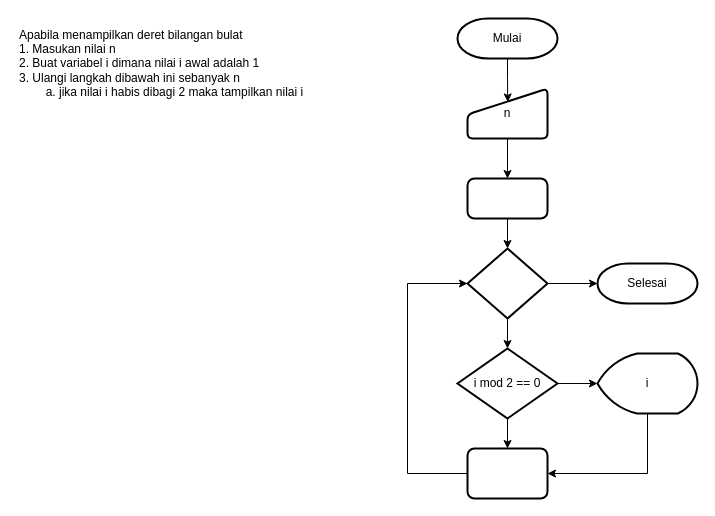
This 715x516 diagram has some shape labels left out. Each missing label, with the centre of its shape:
"i <= 2*n" goes at point 507,283.
"i = 1" goes at point 507,198.
"i = i + 1" goes at point 507,473.
